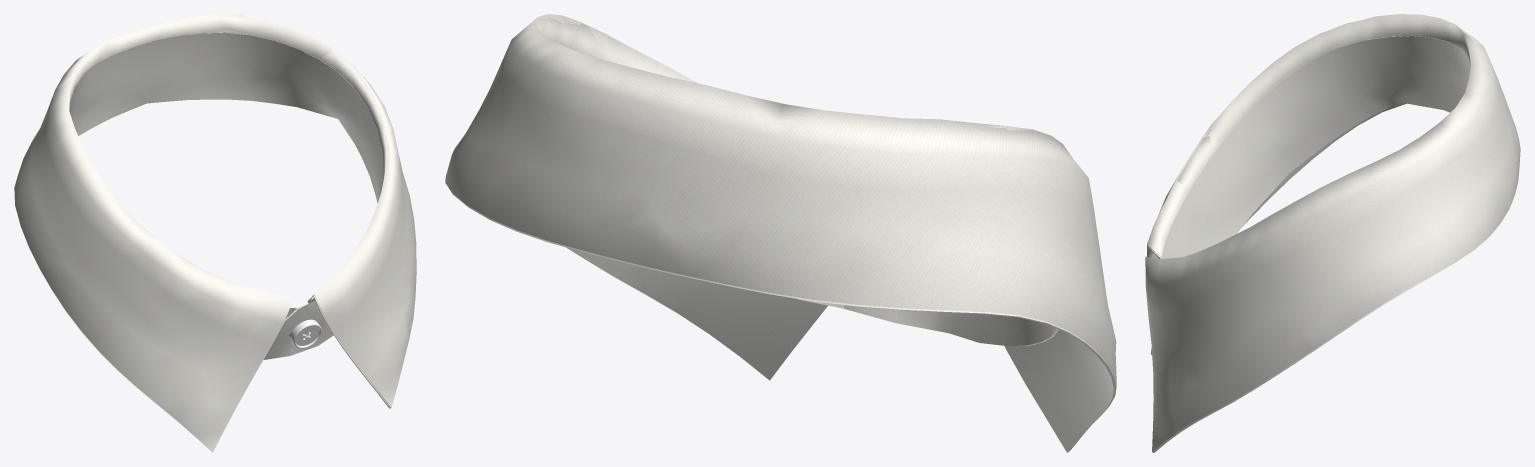
The model's file is Collar.glb.
3 views of the same model, side by side, from view 1: azimuth 30°, elevation 25°; view 2: azimuth 150°, elevation 25°; view 3: azimuth 270°, elevation 25° (orthographic). The views are drawn at different scales.
Parts seen in each view (by area): view 1: Cloth, _mesh; view 2: Cloth; view 3: Cloth.
Part boxes in pixels (left/top/right/bottom): Cloth: left=14, top=14, right=416, bottom=452; _mesh: left=290, top=319, right=321, bottom=348; Cloth: left=445, top=14, right=1116, bottom=452; Cloth: left=1145, top=14, right=1520, bottom=452.
Size of the model in its own units: 16.31 by 13.22 by 13.12.
Materials: 3 (2 with a texture image).
